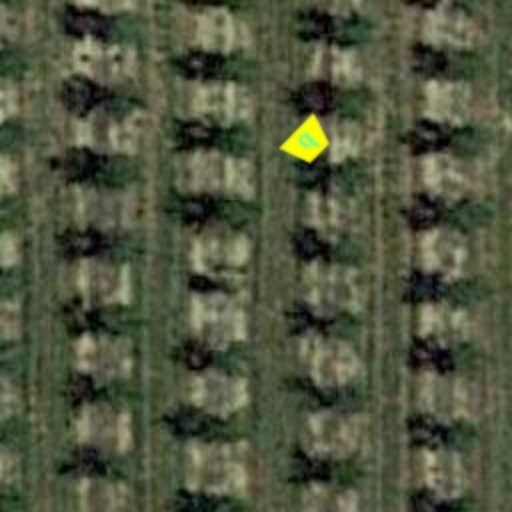trapezoid: (272, 106, 344, 178)
